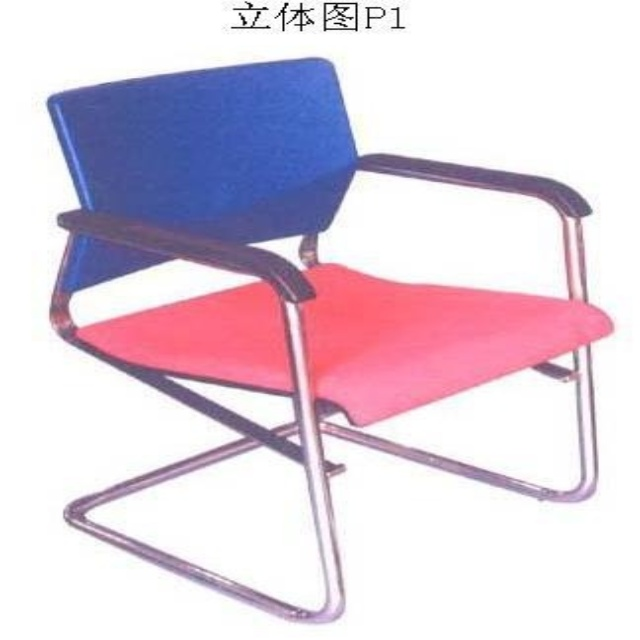obstacle: (47, 58, 610, 622)
